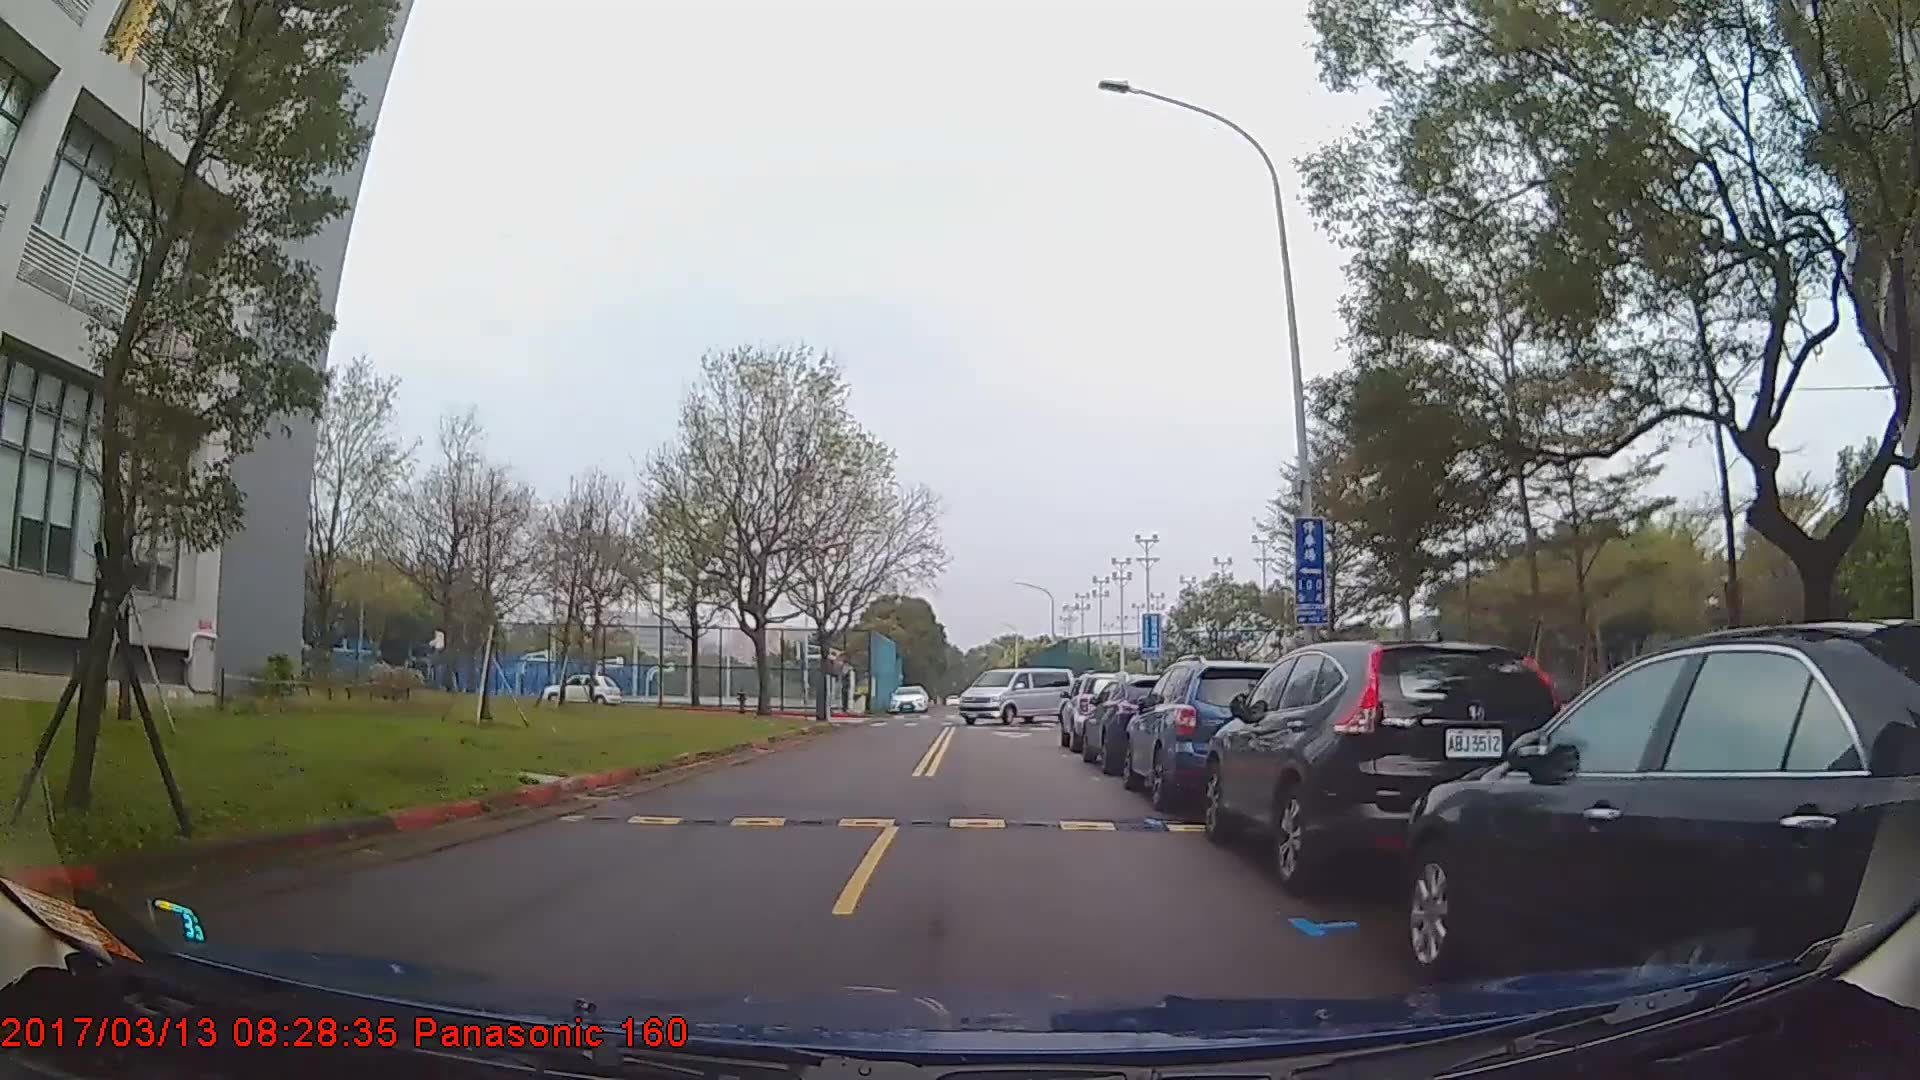vehicle: (1395, 618, 1920, 1019), (1200, 637, 1563, 893), (1120, 655, 1294, 808), (959, 665, 1076, 721), (542, 669, 621, 709), (887, 684, 930, 713)
